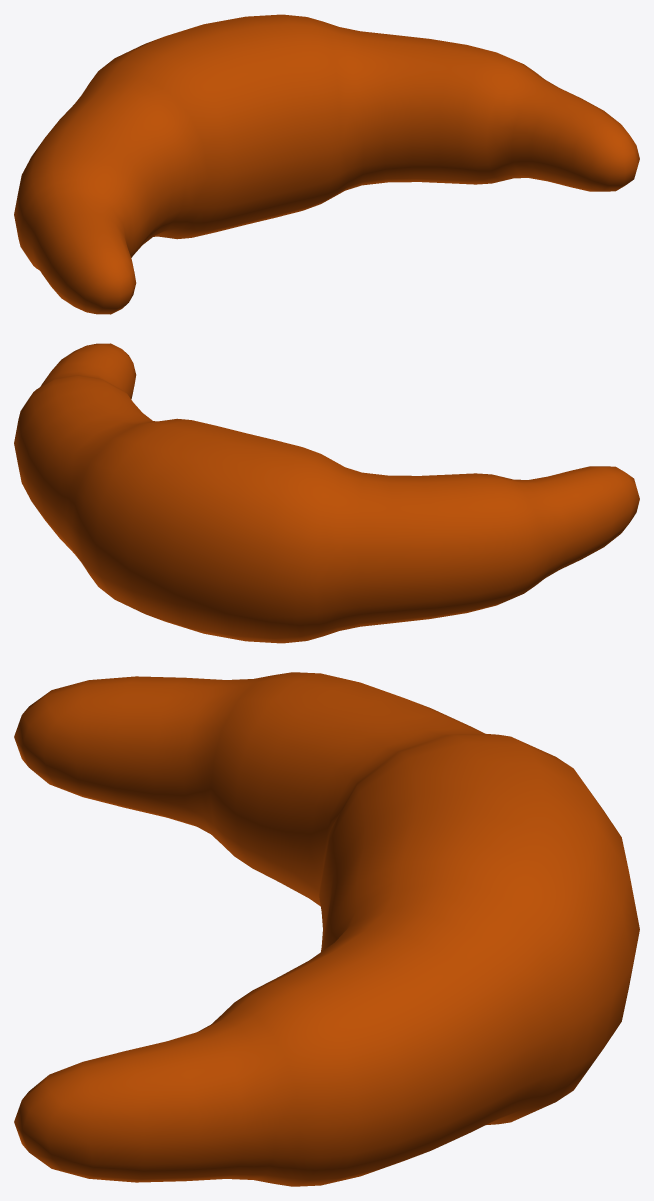
Rendered from Croissant.glb.
The picture shows the model from 3 angles, top to bottom: view 1: azimuth 30°, elevation 25°; view 2: azimuth 150°, elevation 25°; view 3: azimuth 270°, elevation 25°; orthographic projection. The views are drawn at different scales.
Visible parts, largest first — view 1: Cube; view 2: Cube; view 3: Cube.
Part boxes in pixels (x1,y1,x2,y2): Cube: [14, 14, 639, 314]; Cube: [14, 343, 639, 643]; Cube: [14, 672, 639, 1186].
Bounding box in the file's own units: 5.81 × 1.81 × 3.57.
